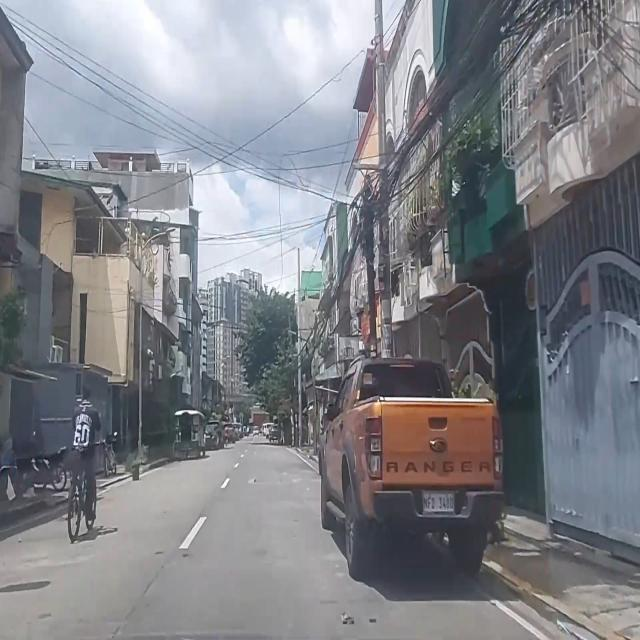bike: (68, 382, 100, 542)
car: (318, 353, 502, 578), (204, 419, 226, 452), (268, 424, 280, 443)
jeepney: (172, 408, 206, 459)
